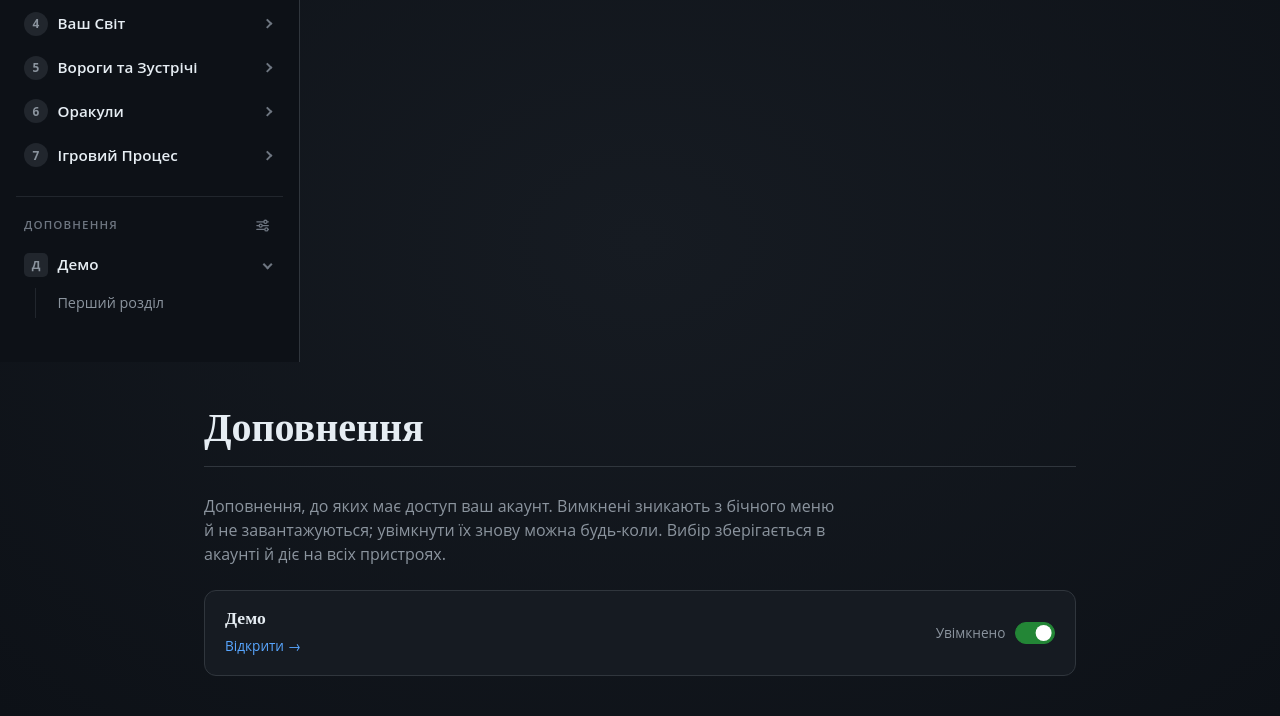
Test: extension settings › turns an extension off and back on from the profile page
(page scrolled)
Expected: the text "Перший розділ" is shown, [57,293,164,312]
Click the switch named "Демо" at point(995, 633), box [936,622,1055,644]
(page scrolled)
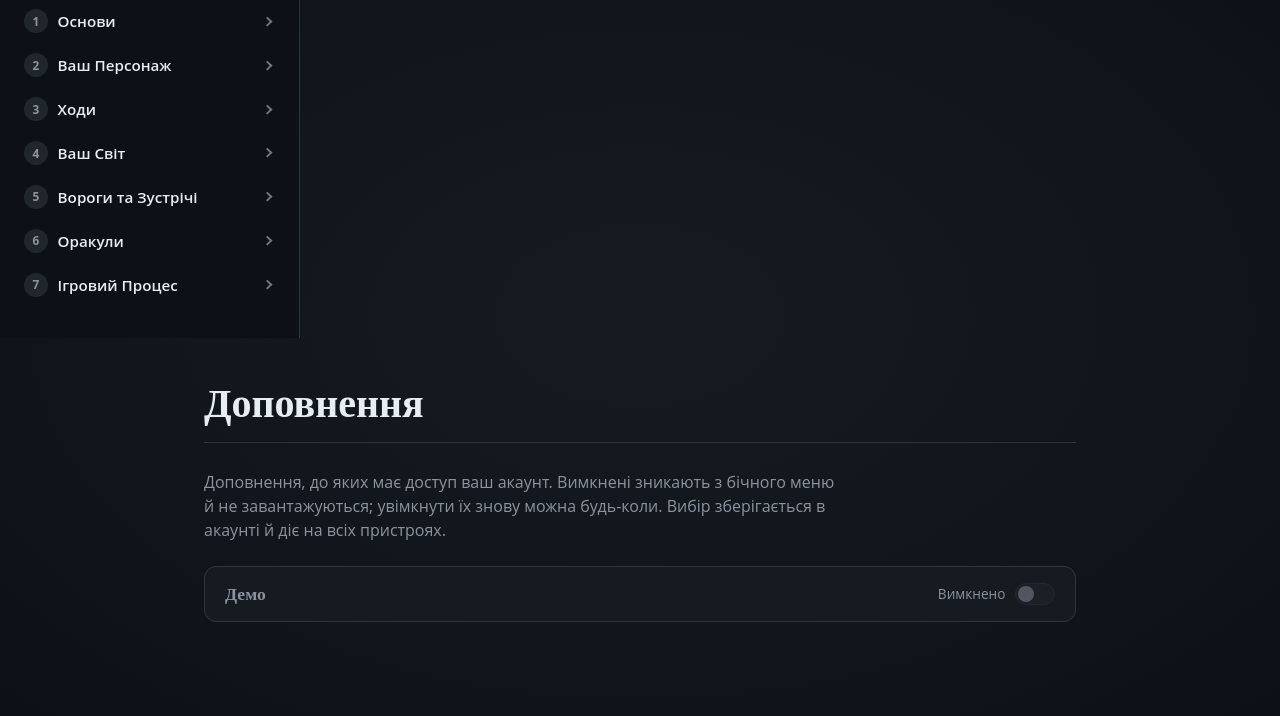
Now the switch named "Демо" is not checked
Now the link "Перший розділ" is gone
Click the switch named "Демо" at point(996, 594), box [938,583,1055,605]
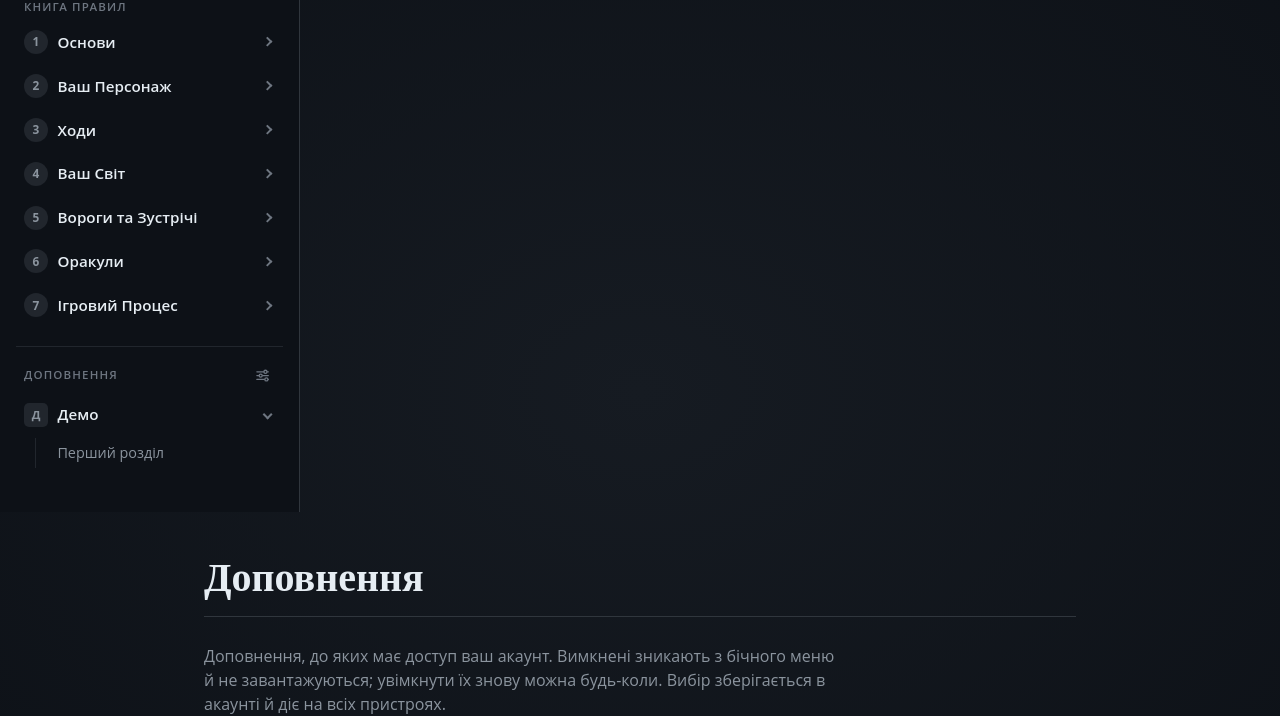
Now the text "Перший розділ" is shown, box [57,443,164,462]
